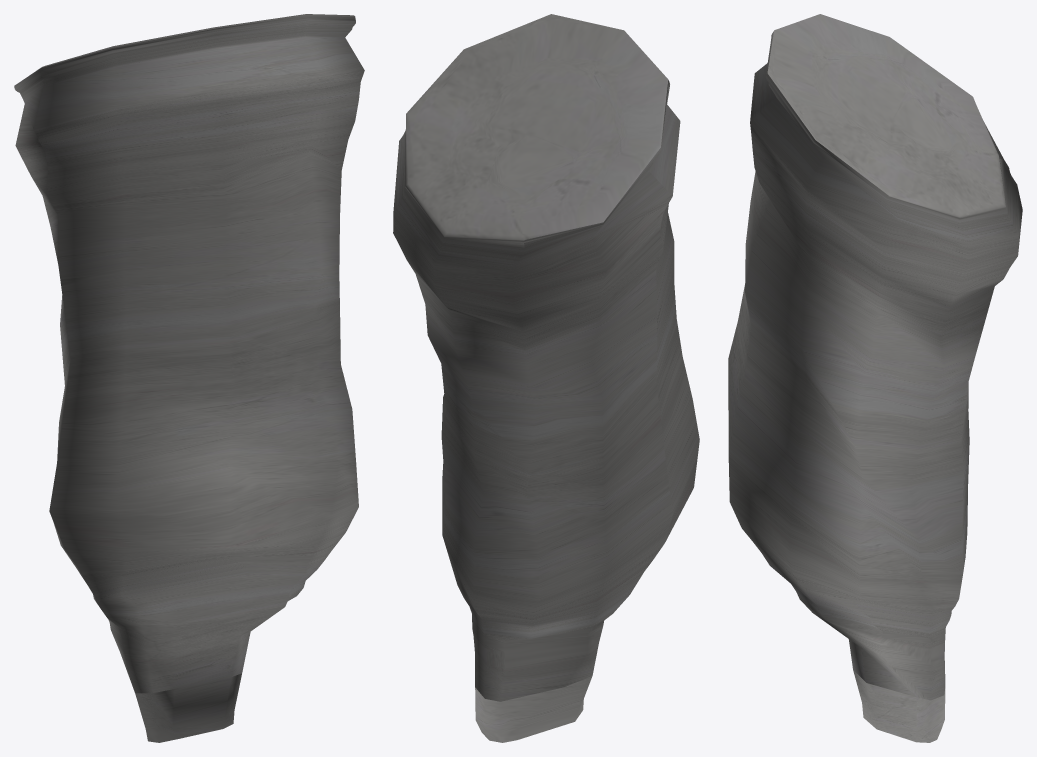
3 views of the same model, side by side, from view 1: azimuth 30°, elevation 25°; view 2: azimuth 150°, elevation 25°; view 3: azimuth 270°, elevation 25° (orthographic). The views are drawn at different scales.
Parts seen in each view (by area): view 1: geo1; view 2: geo1; view 3: geo1.
Boxes of the visible parts, x1,y1,x2,y2 form: geo1: (14,14,364,742); geo1: (393,14,699,742); geo1: (728,14,1022,742).
Size of the model in its own units: 136 by 322 by 126.
1 material, 1 textured.
